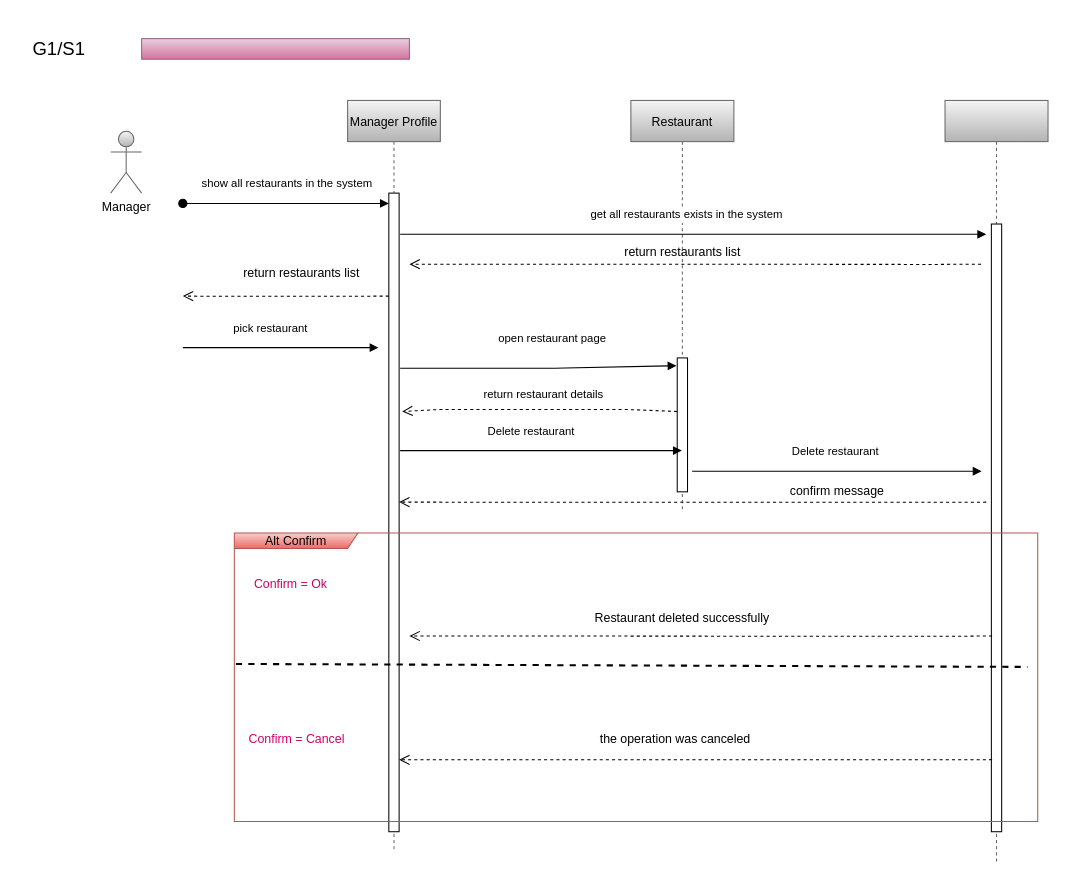
The diagram is 1066 pixels wide and 881 high, and some of its shapes have lost their labels. The box of each missing label's shape, as (x1, y1, x2, y2) in pixels:
Database: (944, 99, 1048, 863)
Restaurant Rating and Review System: (141, 38, 409, 59)
